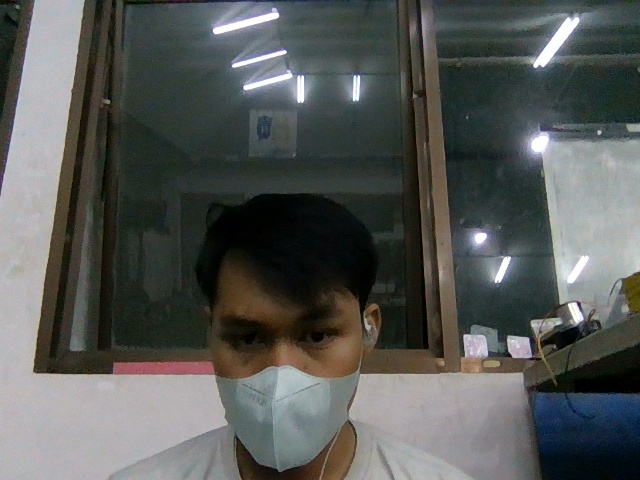mask_on: (214, 365, 357, 471)
